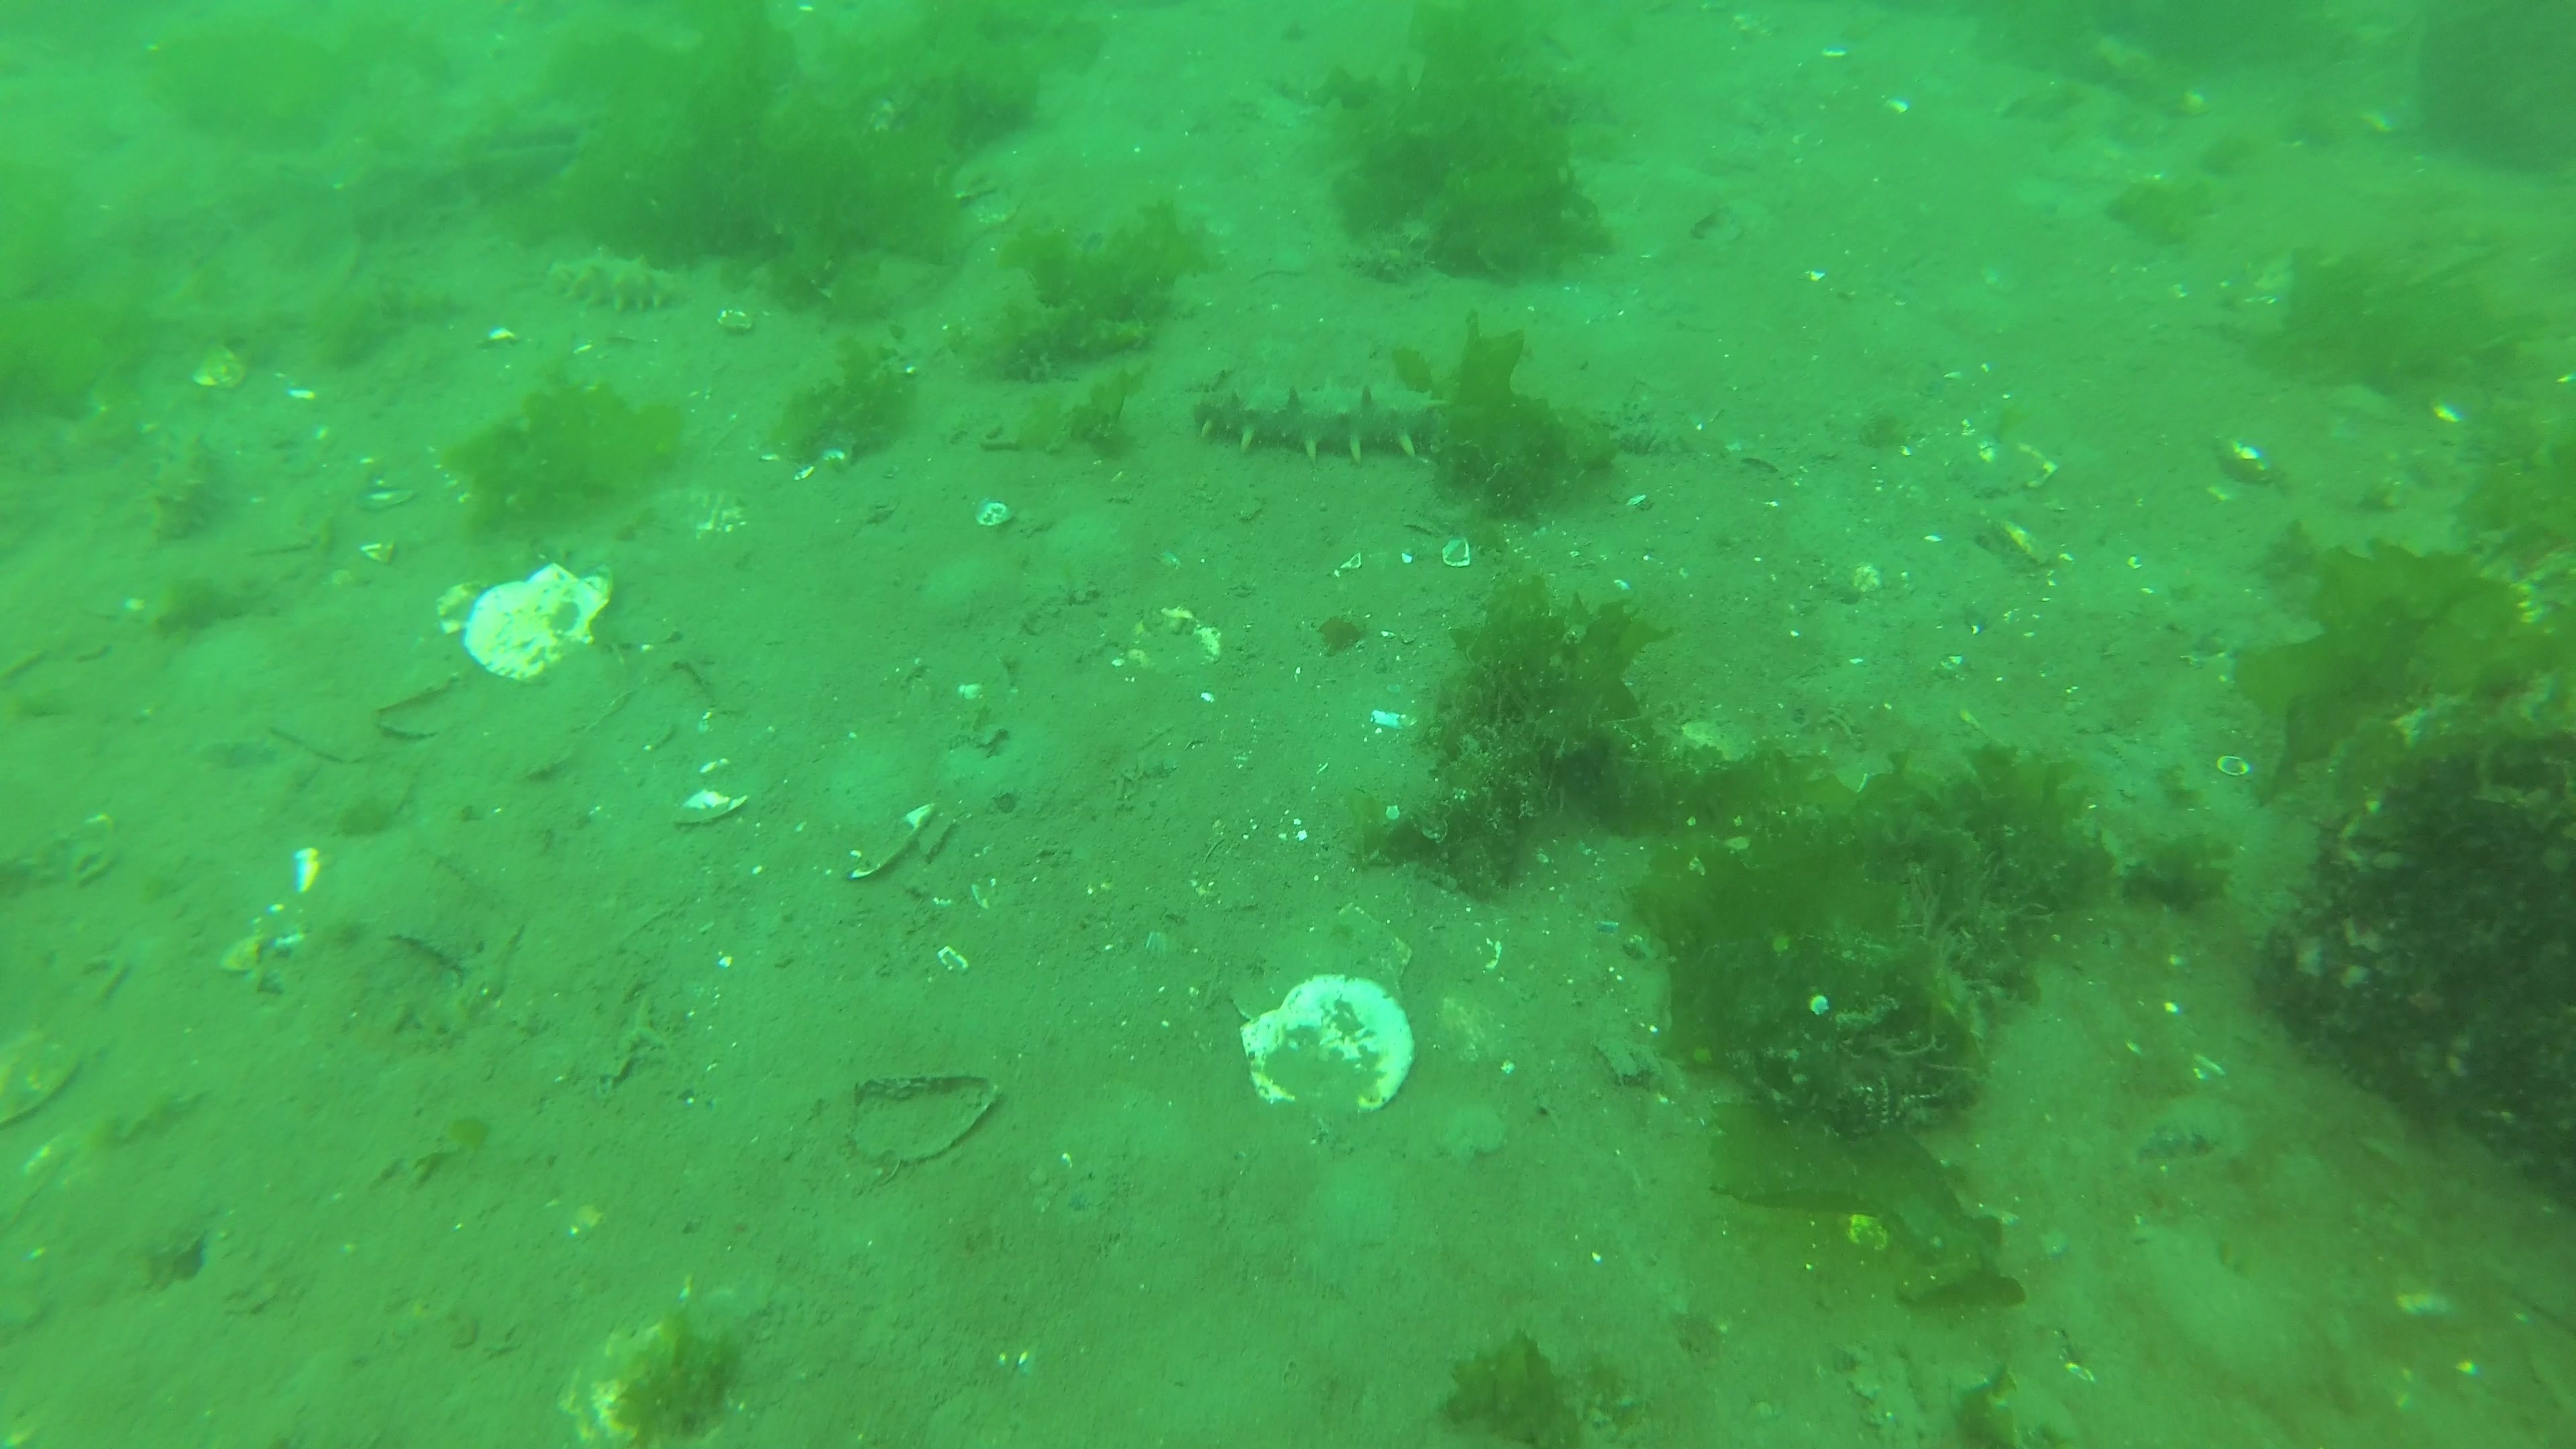holothurian: (1187, 379, 1451, 465), (550, 244, 686, 318)
scallop: (1246, 968, 1426, 1123), (448, 543, 621, 686)
